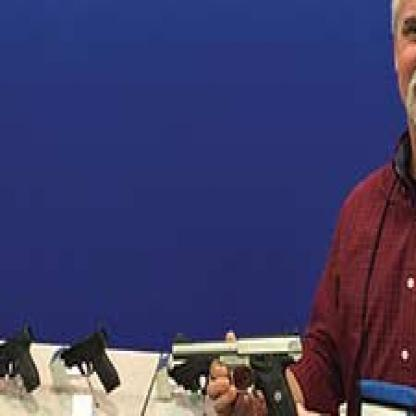gun: (166, 325, 304, 413), (54, 327, 120, 398), (0, 325, 41, 400)
